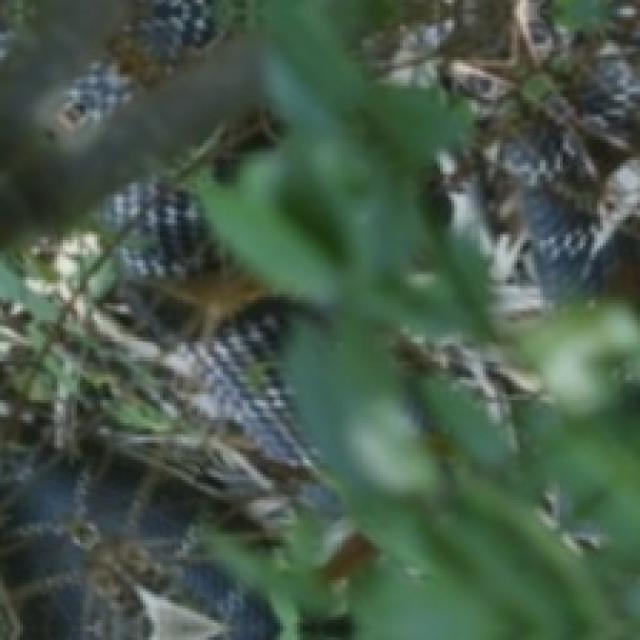king cobra: (0, 180, 376, 639), (379, 0, 640, 318), (125, 0, 221, 73), (60, 59, 152, 129)
